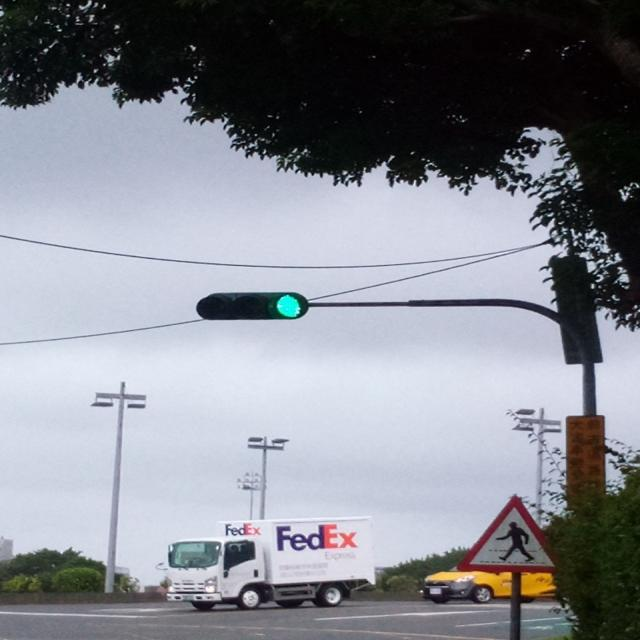green light: (197, 292, 310, 324)
